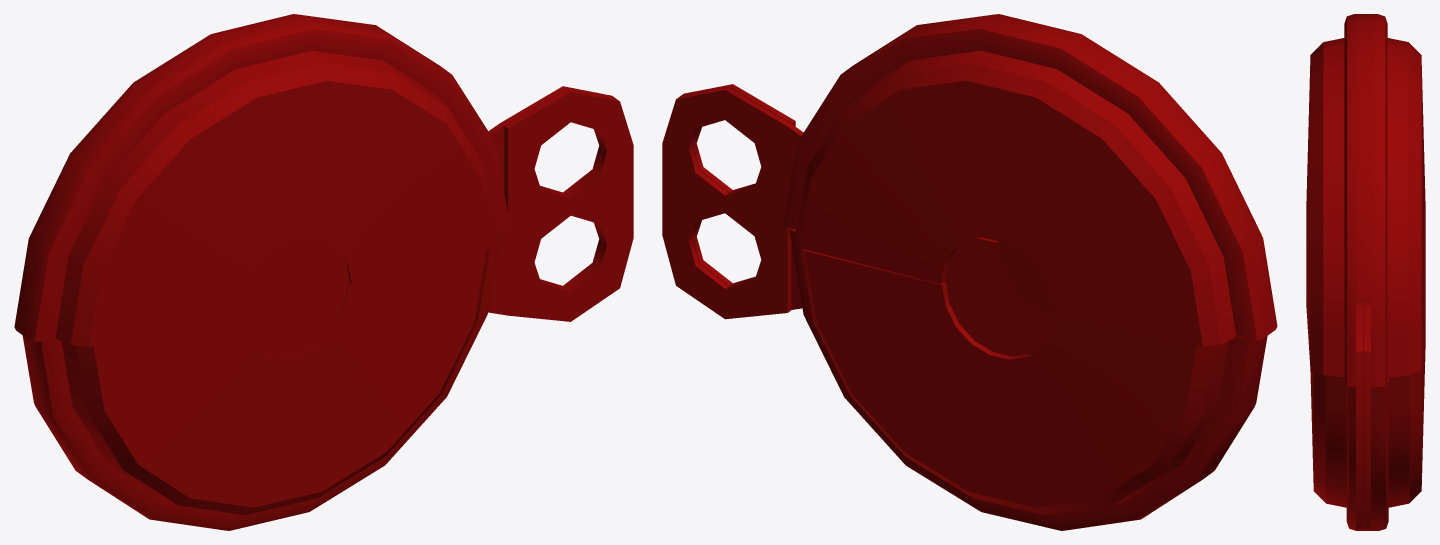
The model's file is Valve_Lockout.fbx.
3 renders of one model, left to right at view 1: azimuth 30°, elevation 25°; view 2: azimuth 150°, elevation 25°; view 3: azimuth 270°, elevation 25°, orthographic. The views are drawn at different scales.
Visible parts, largest first — view 1: Valve_Lockout_Top, Valve_:ockout_Bottom; view 2: Valve_Lockout_Top, Valve_:ockout_Bottom; view 3: Valve_Lockout_Top, Valve_:ockout_Bottom.
Boxes of the visible parts, x1,y1,x2,y2 form: Valve_Lockout_Top: (14,14,615,347); Valve_:ockout_Bottom: (22,89,633,530); Valve_Lockout_Top: (662,14,1277,346); Valve_:ockout_Bottom: (680,84,1267,530); Valve_Lockout_Top: (1306,14,1425,528); Valve_:ockout_Bottom: (1310,299,1425,530).
Size of the model in its own units: 139 by 107 by 25.
